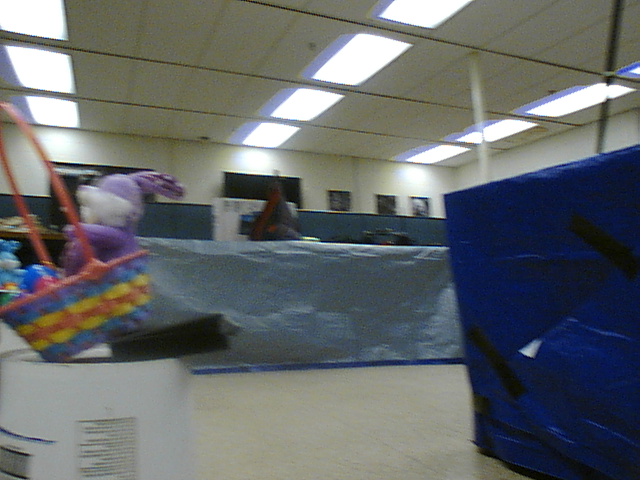bunny: (1, 100, 186, 368), (1, 236, 28, 291)
